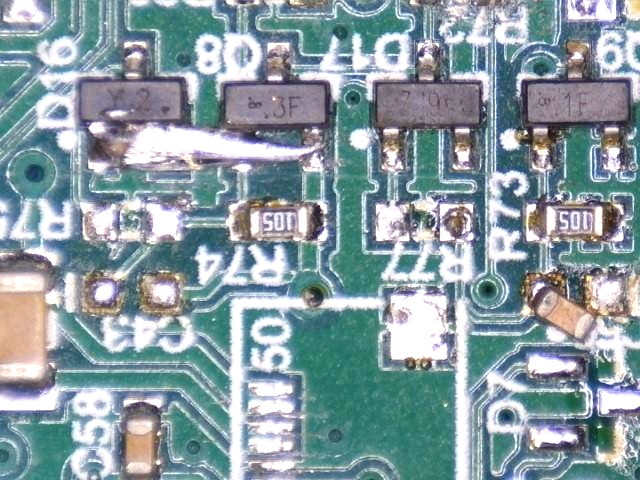pcb_defect: (90, 121, 315, 171), (524, 273, 625, 342)
